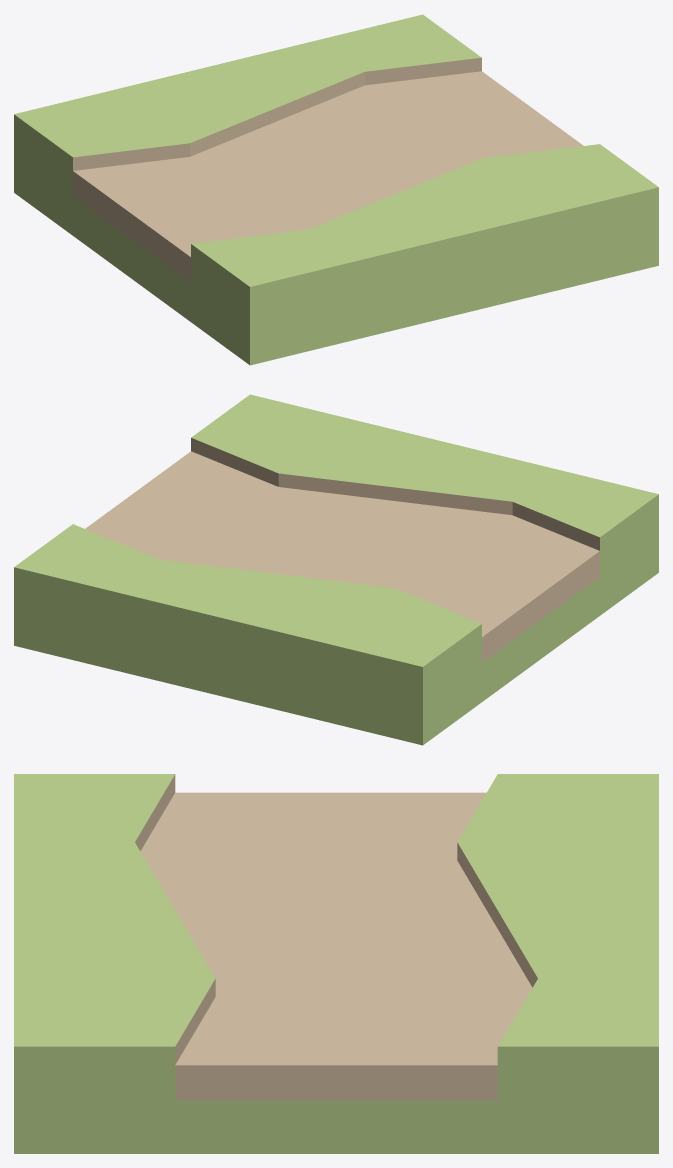
Rendered from road_tile_023.glb.
3 renders of one model, top to bottom at view 1: azimuth 30°, elevation 25°; view 2: azimuth 150°, elevation 25°; view 3: azimuth 270°, elevation 25°, orthographic. The views are drawn at different scales.
Parts seen in each view (by area): view 1: roadTile_023; view 2: roadTile_023; view 3: roadTile_023.
Part boxes in pixels (x1=…): roadTile_023: x1=14, y1=14, x2=658, y2=365; roadTile_023: x1=14, y1=394, x2=658, y2=745; roadTile_023: x1=14, y1=774, x2=658, y2=1153.
Size of the model in its own units: 3 by 0.55 by 3.
